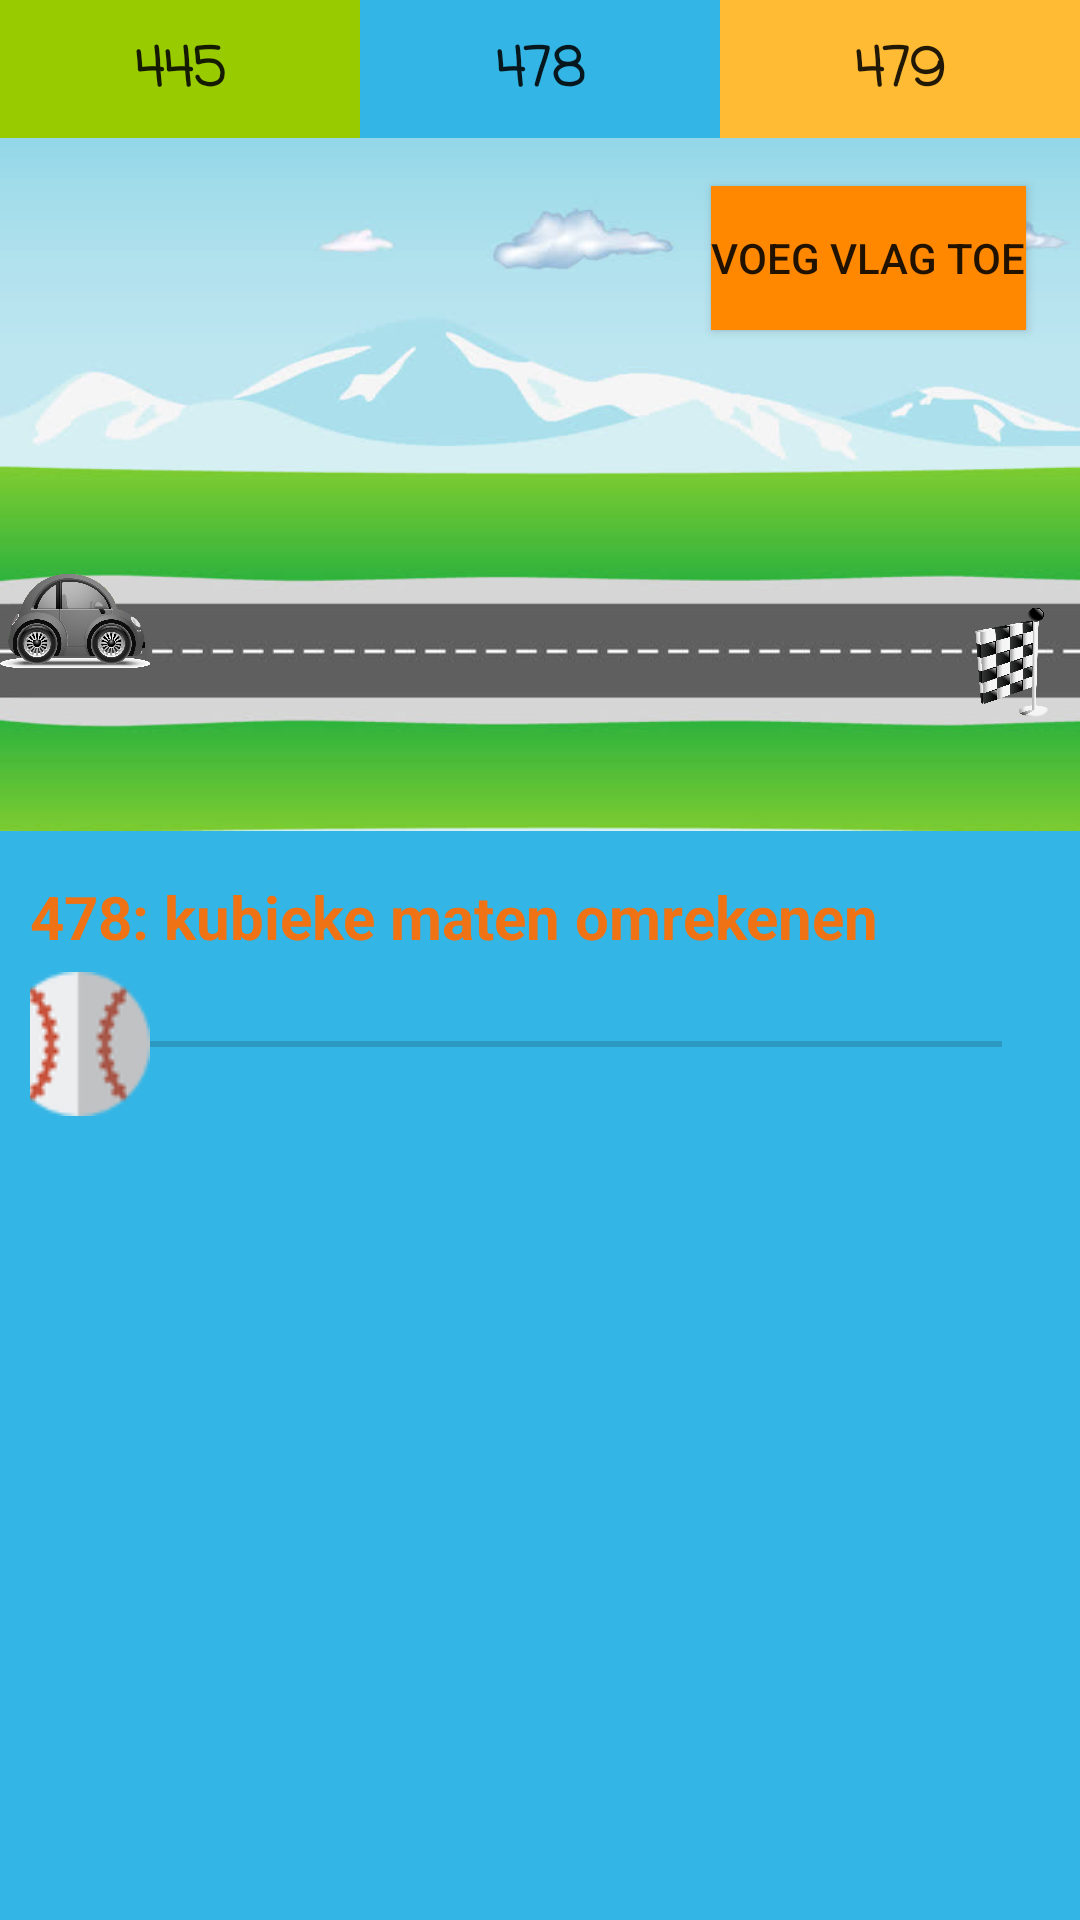

Named icons in this screenshot (1080w x 1920h) and their centers, (x=x, y=y):
flag: (x=1018, y=661)
